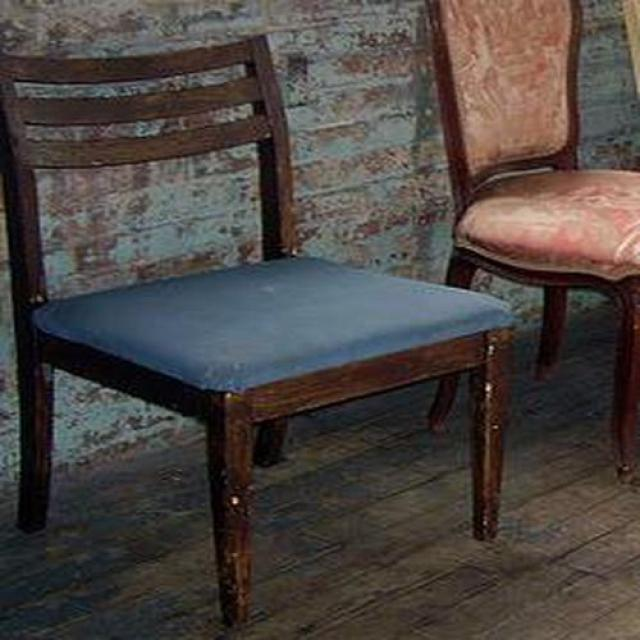chair: (0, 36, 516, 628), (425, 0, 640, 486)
